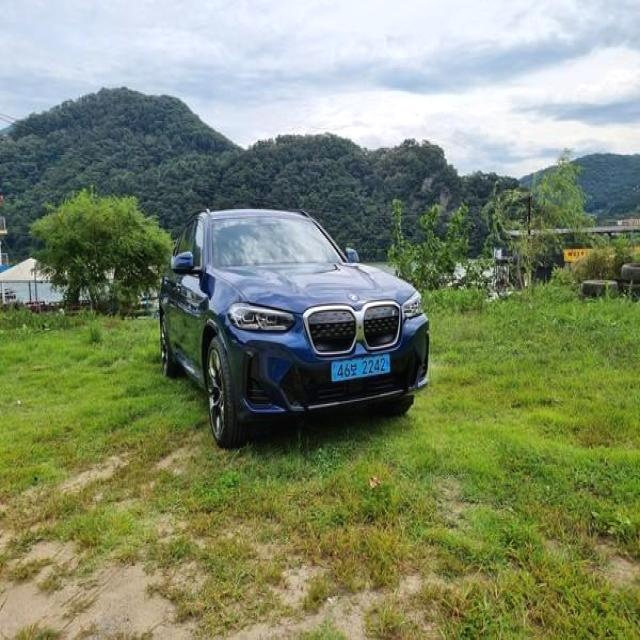EV_plate: (332, 354, 395, 382)
car: (157, 202, 433, 452)
